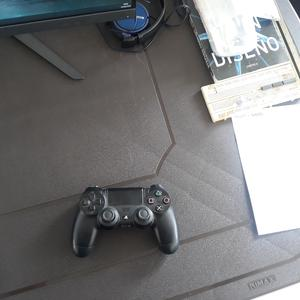controller: (71, 185, 177, 258)
